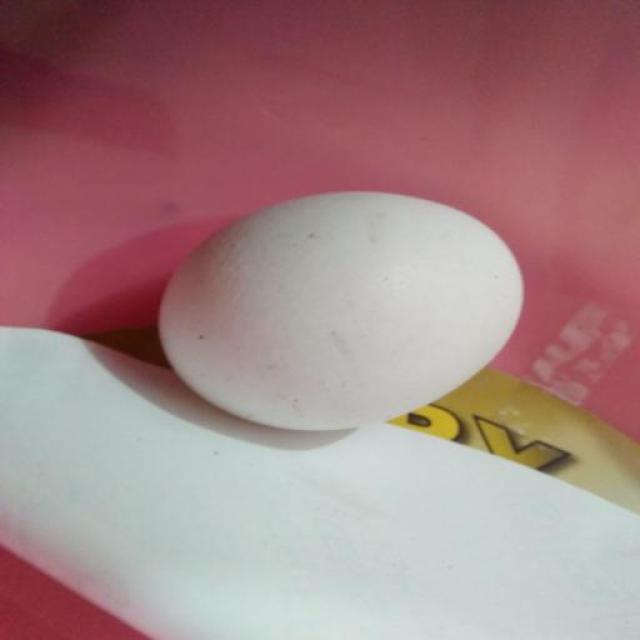telur: (158, 190, 523, 433)
